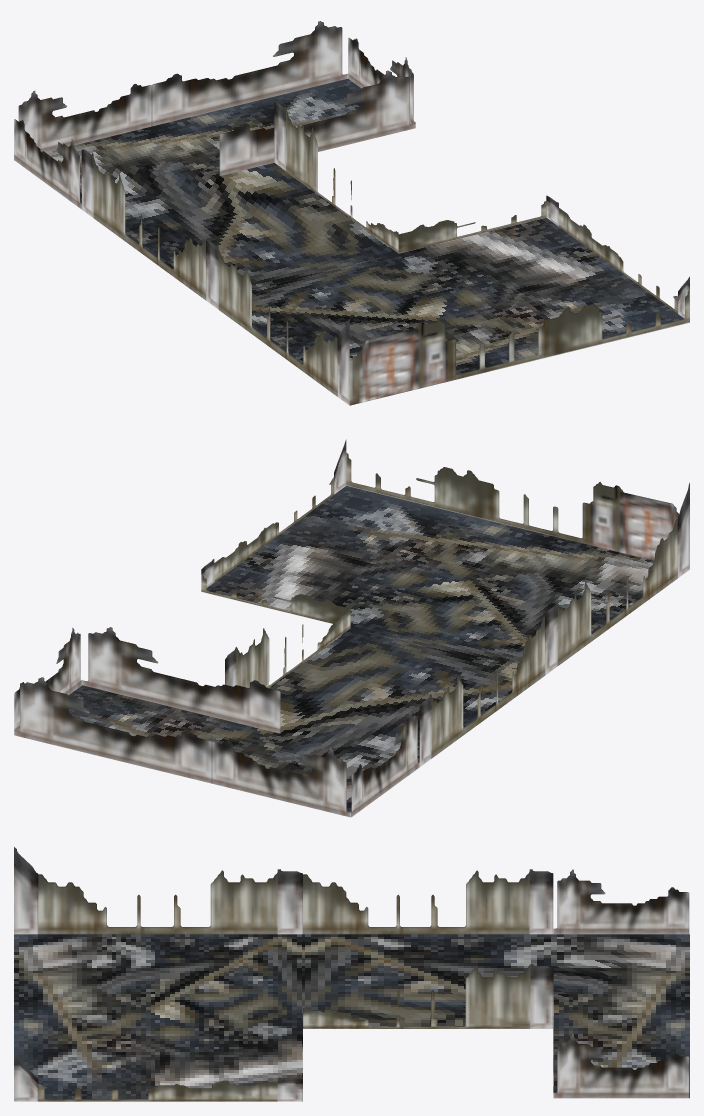
Rendered from s_hq_dam.glb.
3 views of the same model, one above another, from view 1: azimuth 30°, elevation 25°; view 2: azimuth 150°, elevation 25°; view 3: azimuth 270°, elevation 25° (orthographic).
Parts seen in each view (by area): view 1: S_SensorControlDAM; view 2: S_SensorControlDAM; view 3: S_SensorControlDAM.
Boxes of the visible parts, <box> form: S_SensorControlDAM: <box>14,21,689,405</box>; S_SensorControlDAM: <box>14,439,689,817</box>; S_SensorControlDAM: <box>14,847,689,1101</box>.
Size of the model in its own units: 17.48 by 4.27 by 29.83.
Materials: 2 (2 with a texture image).
